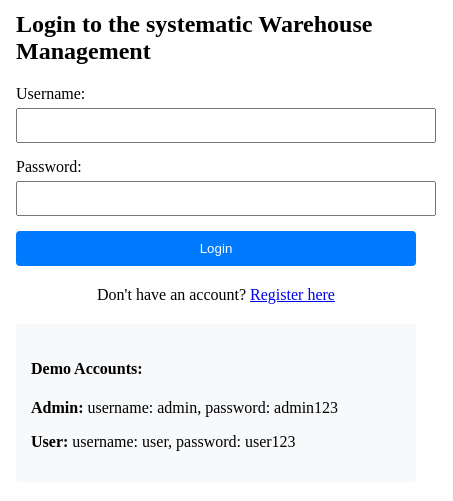
Test: Login Component › shows error message when login fails
This screenshot has width=453, height=501.
Step 1. Type "wrong" into the field labelled "Username:" → (226, 125), box [16,108,436,143]
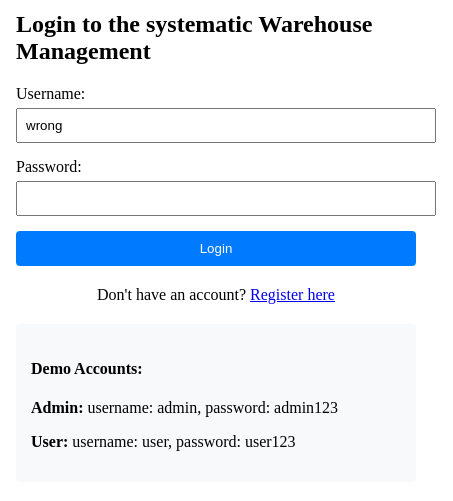
Step 2. Type "wrongpass" into the password field labelled "Password:" → (226, 198), box [16,181,436,216]
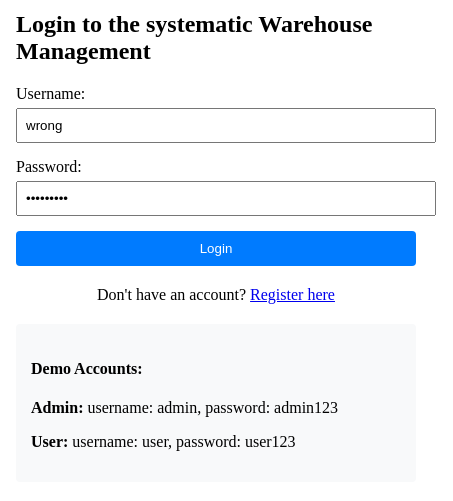
Step 3. Click the button "Login" → (216, 248), box [16,231,416,266]
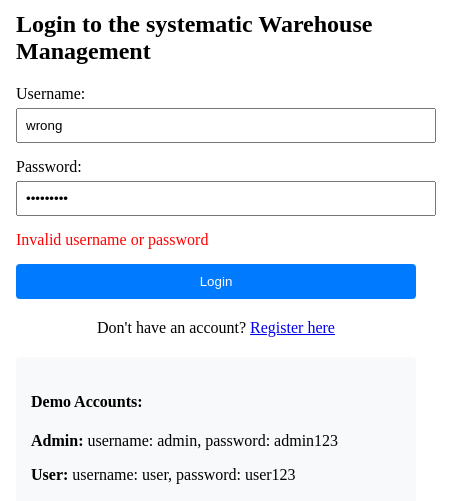
Check: the text "Invalid username or password" is shown, box [16,231,208,248]
